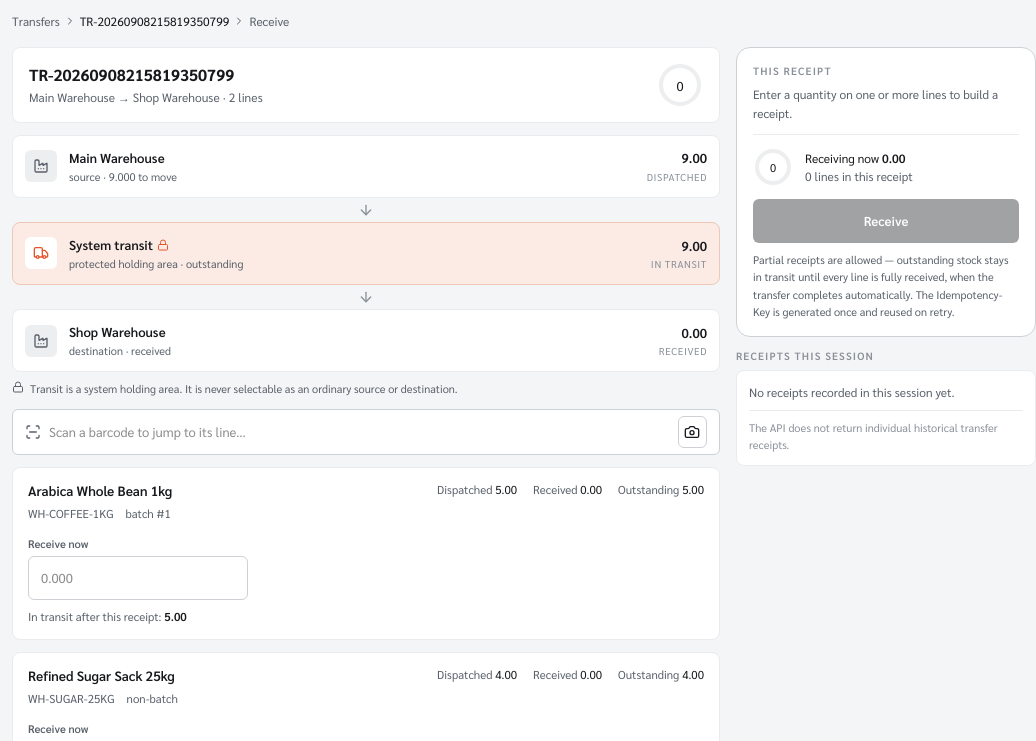
Test: TransferReceivingConsole — lines + guards › blocks a quantity above the line's outstanding
Step 1. Type "99" into the field labelled "Receive now" below "WH-COFFEE-1KG" → (138, 578), box 28,556 -> 248,600
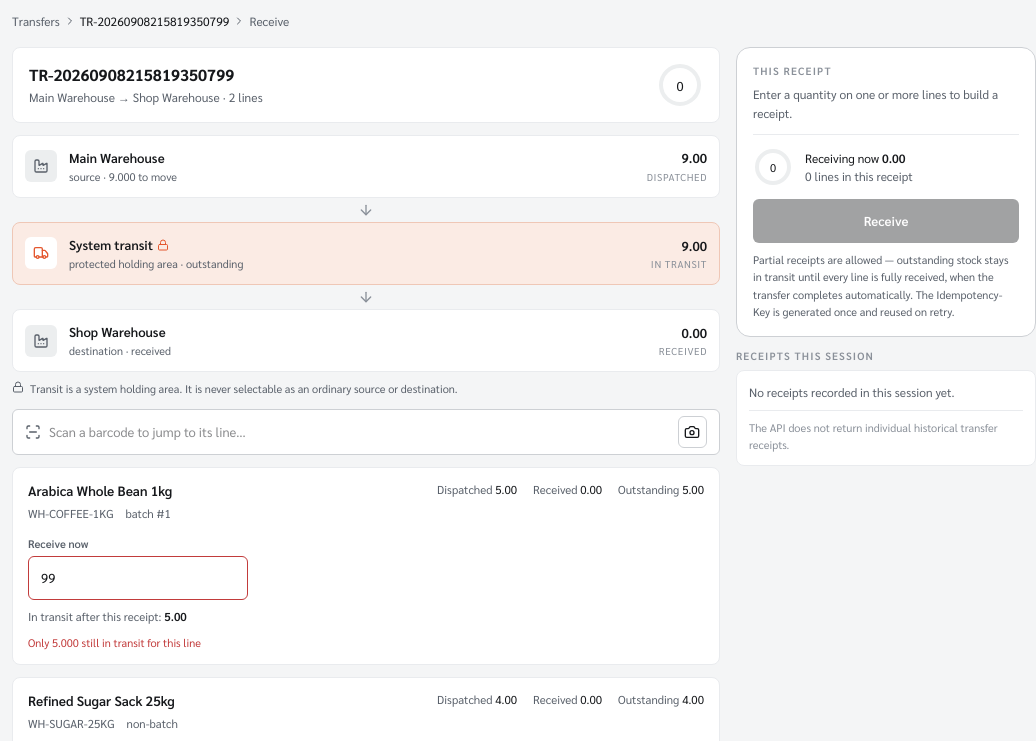
Expected: the button "Receive" is disabled, 753,199 -> 1019,243
Expected: the text "Only 5.000 still in transit for this line" is shown, 28,635 -> 201,650
